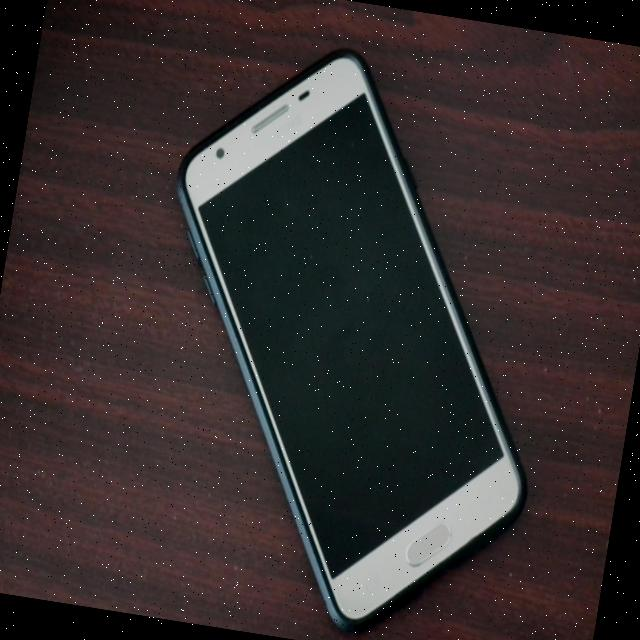Phone: (108, 24, 589, 640)
